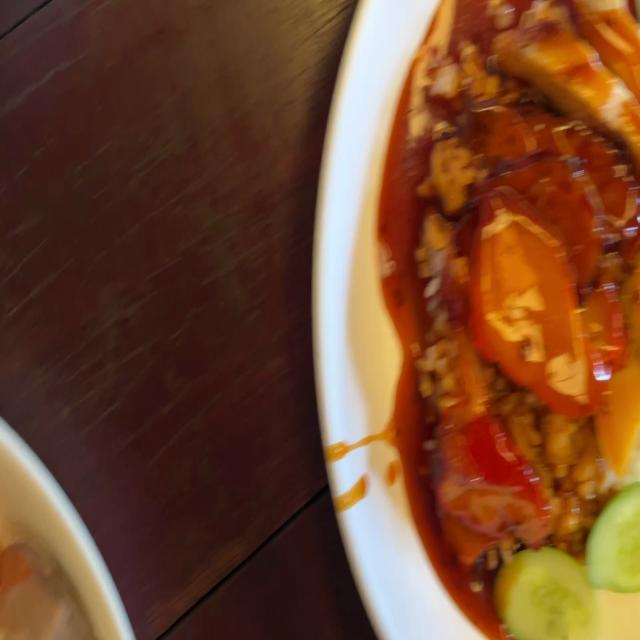01chainese_sausage: (478, 90, 632, 262)
01crispy_pork: (486, 0, 640, 122)
01red_pork: (473, 193, 582, 396), (433, 388, 541, 547)
01red_pork_and_crispy_pork: (405, 0, 640, 640)
cucumber: (504, 489, 640, 639)
